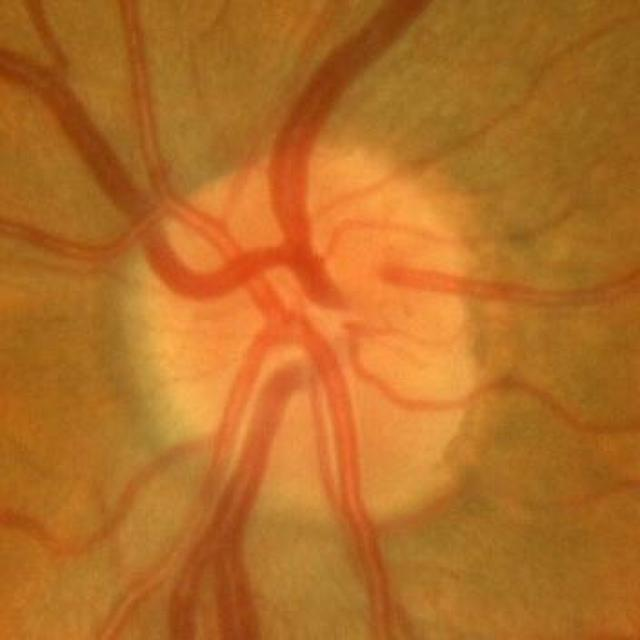OC: (247, 272, 359, 379)
OD: (138, 146, 480, 518)
